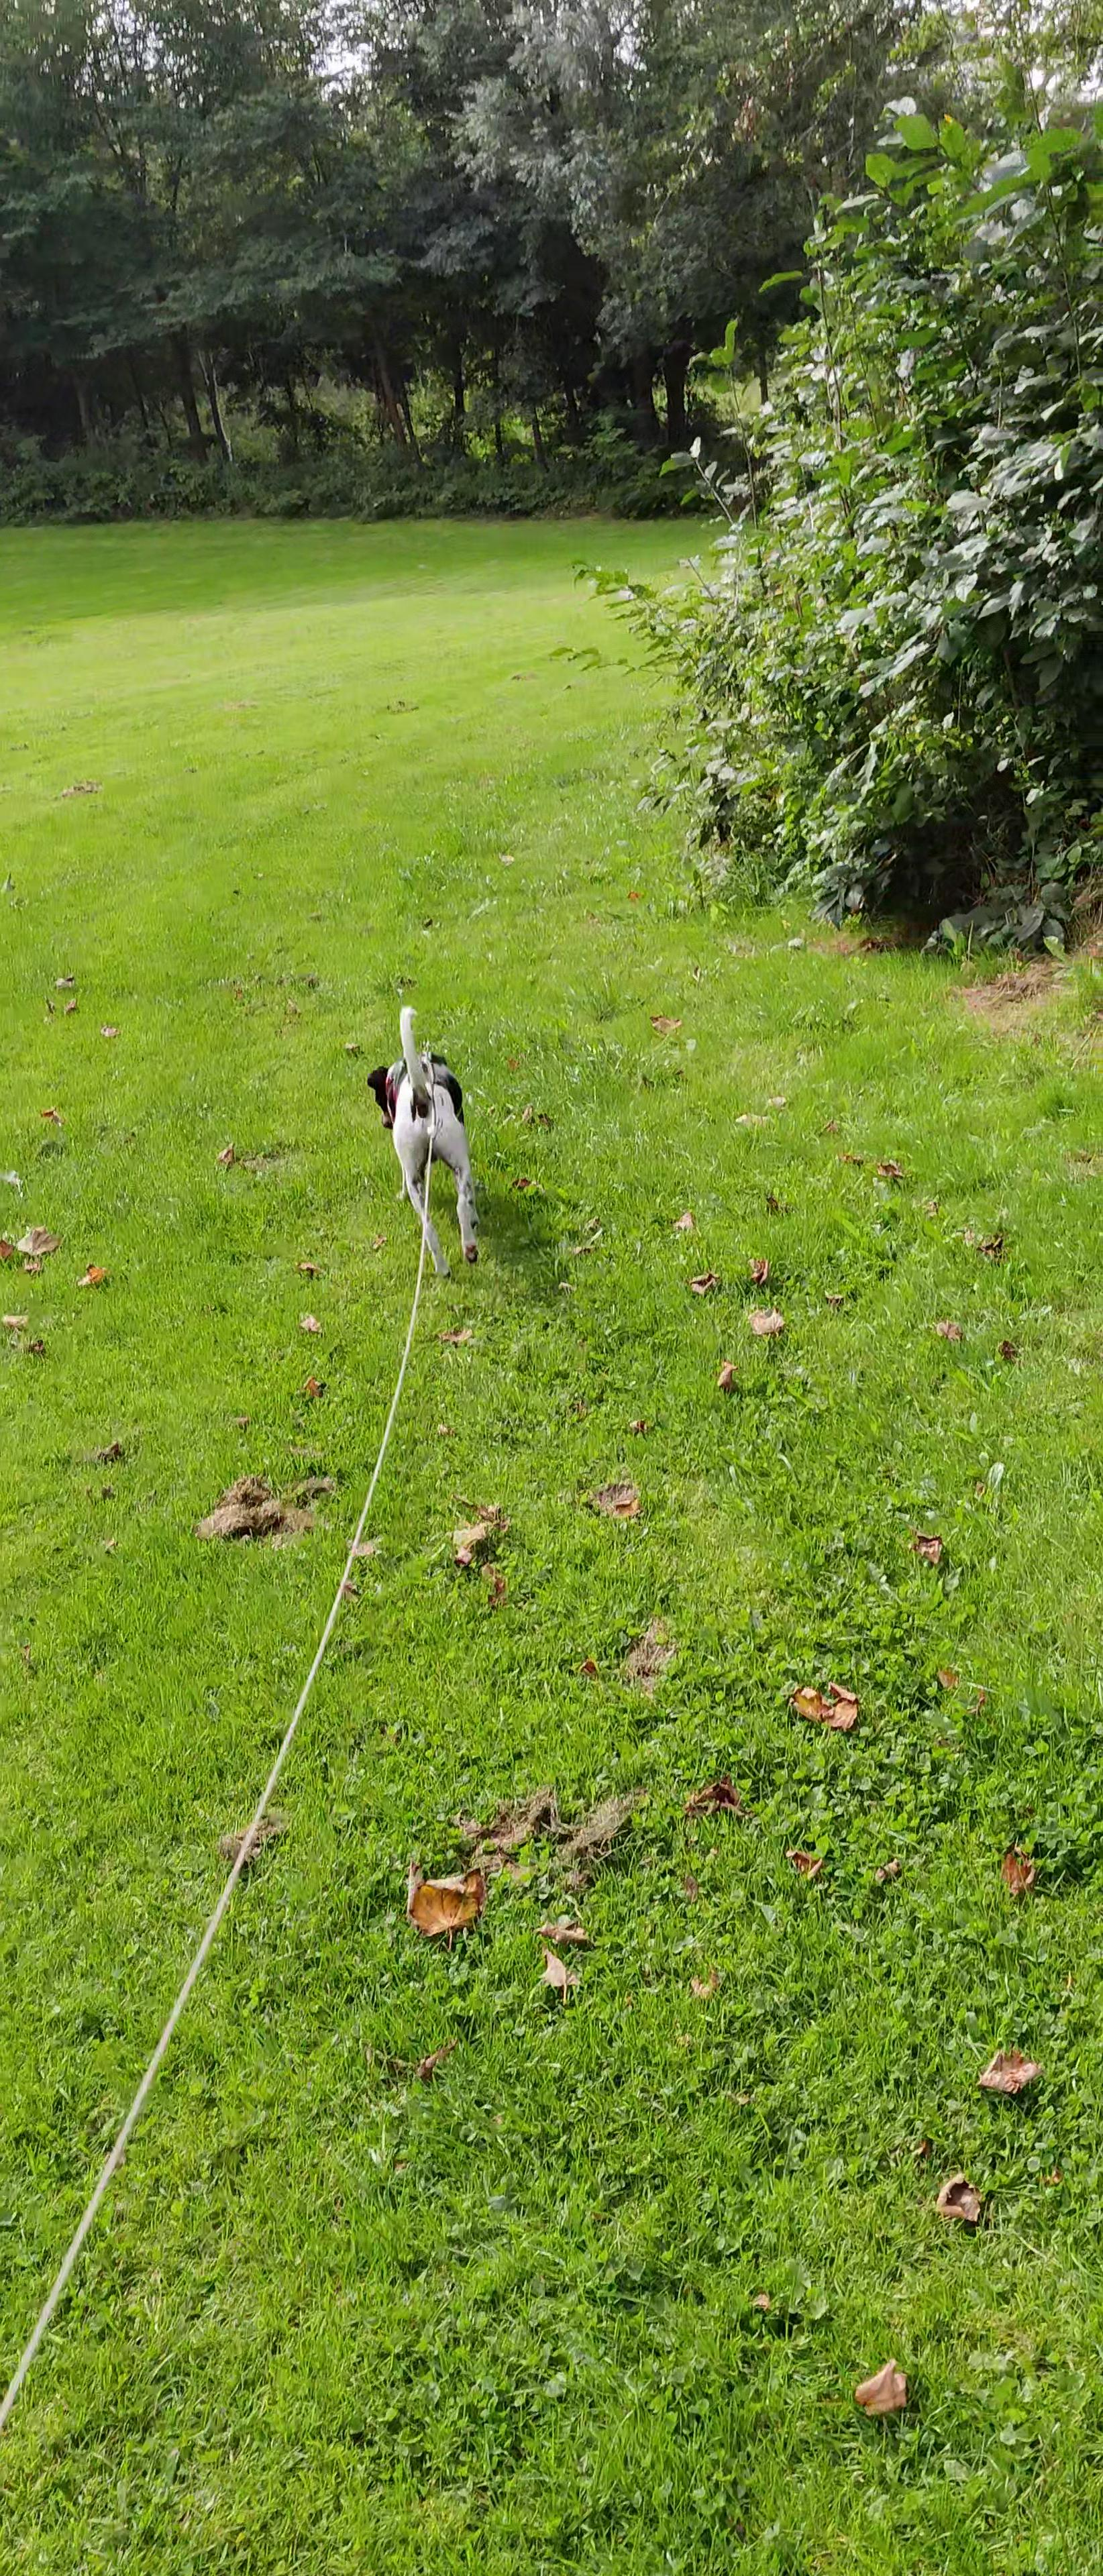Dog: (355, 994, 488, 1276)
